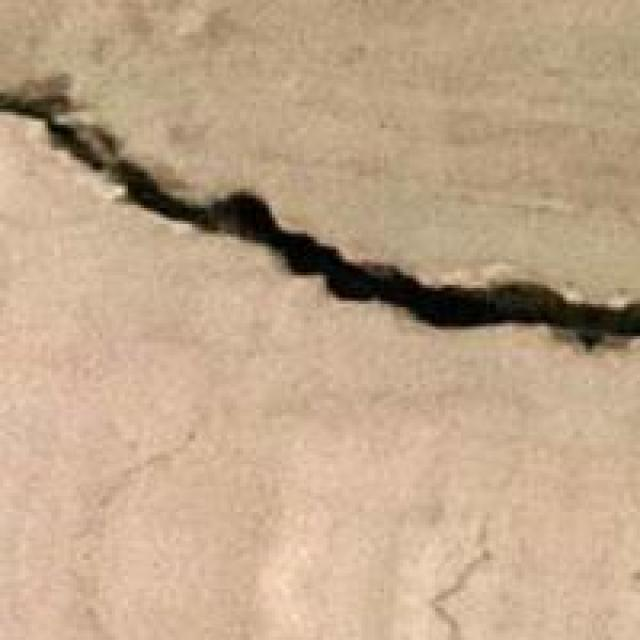Crack: (0, 67, 637, 410)
